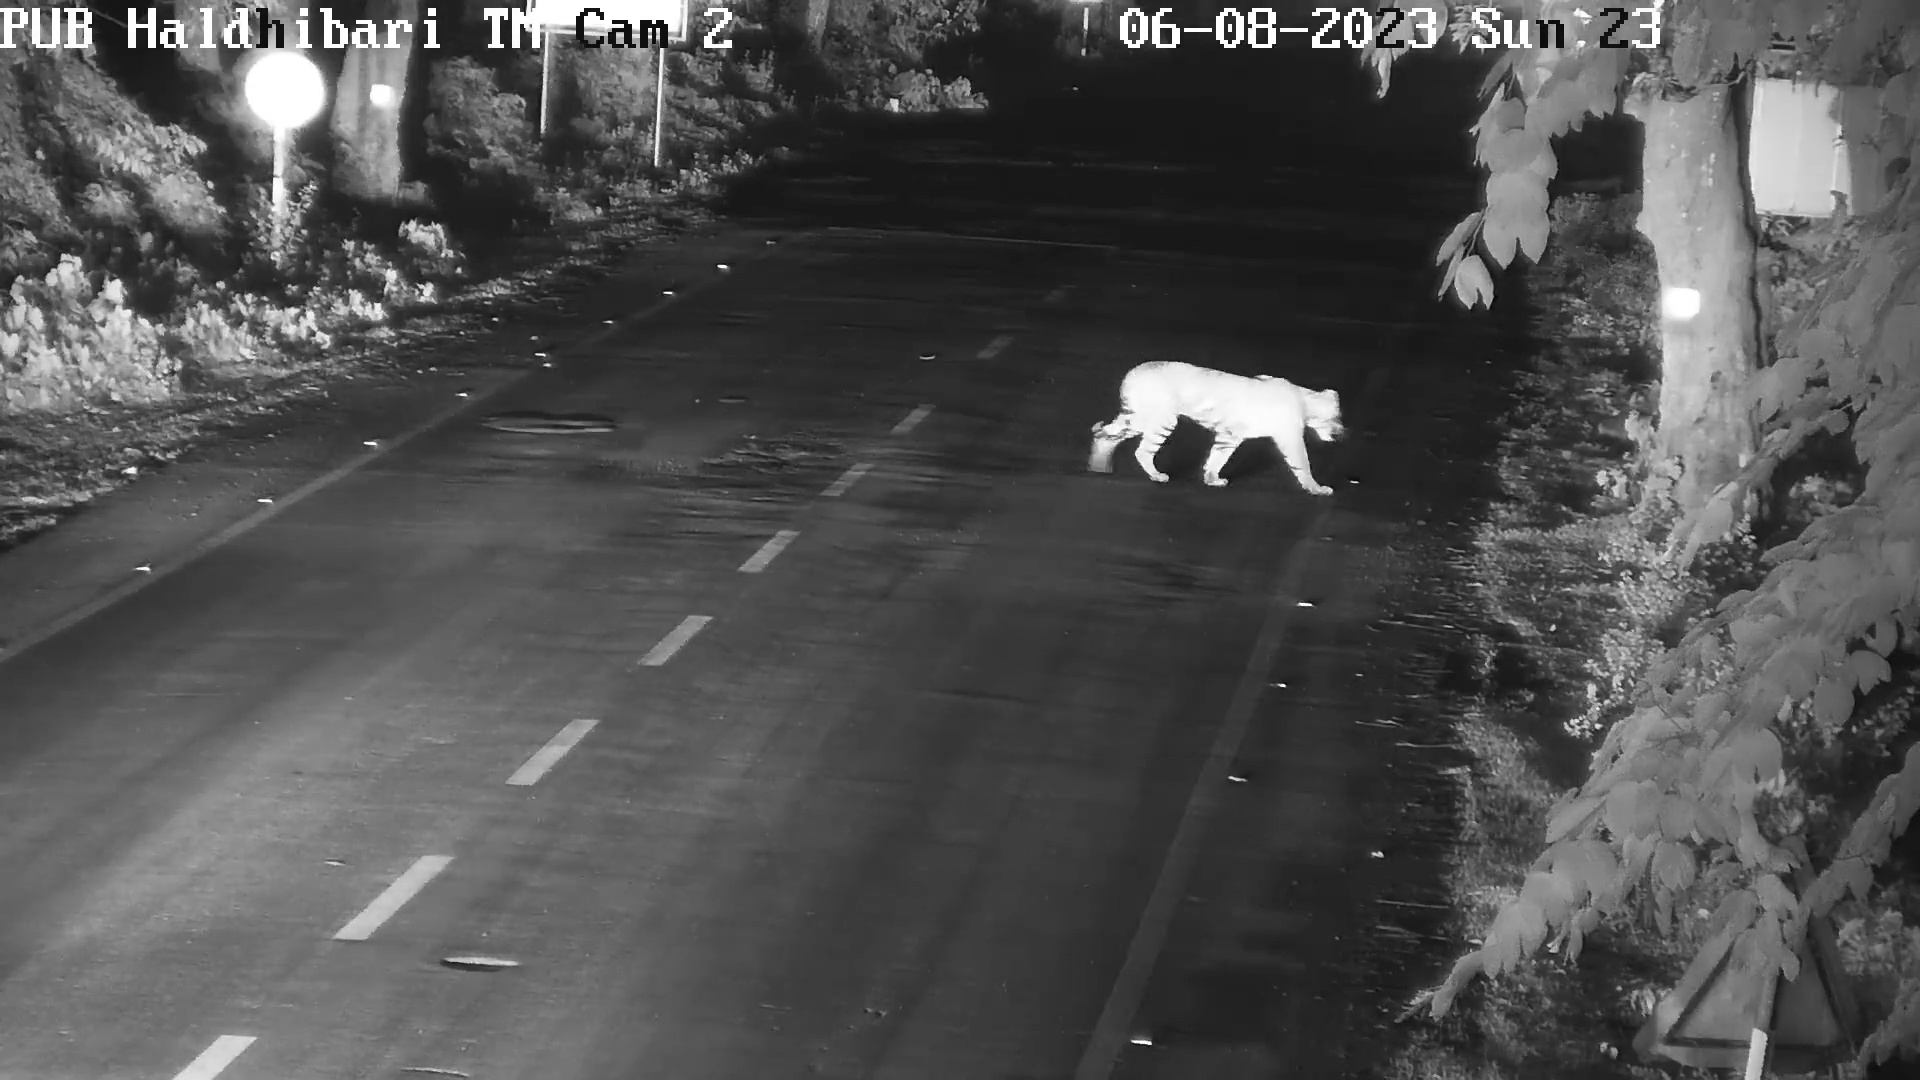tigers: (1091, 359, 1341, 498)
